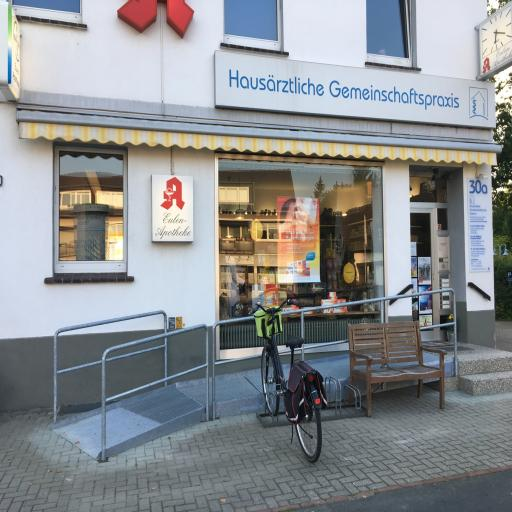ramp: (173, 349, 454, 413), (52, 386, 203, 458)
